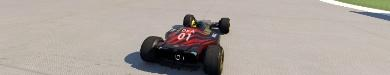Car: (139, 13, 230, 74)
